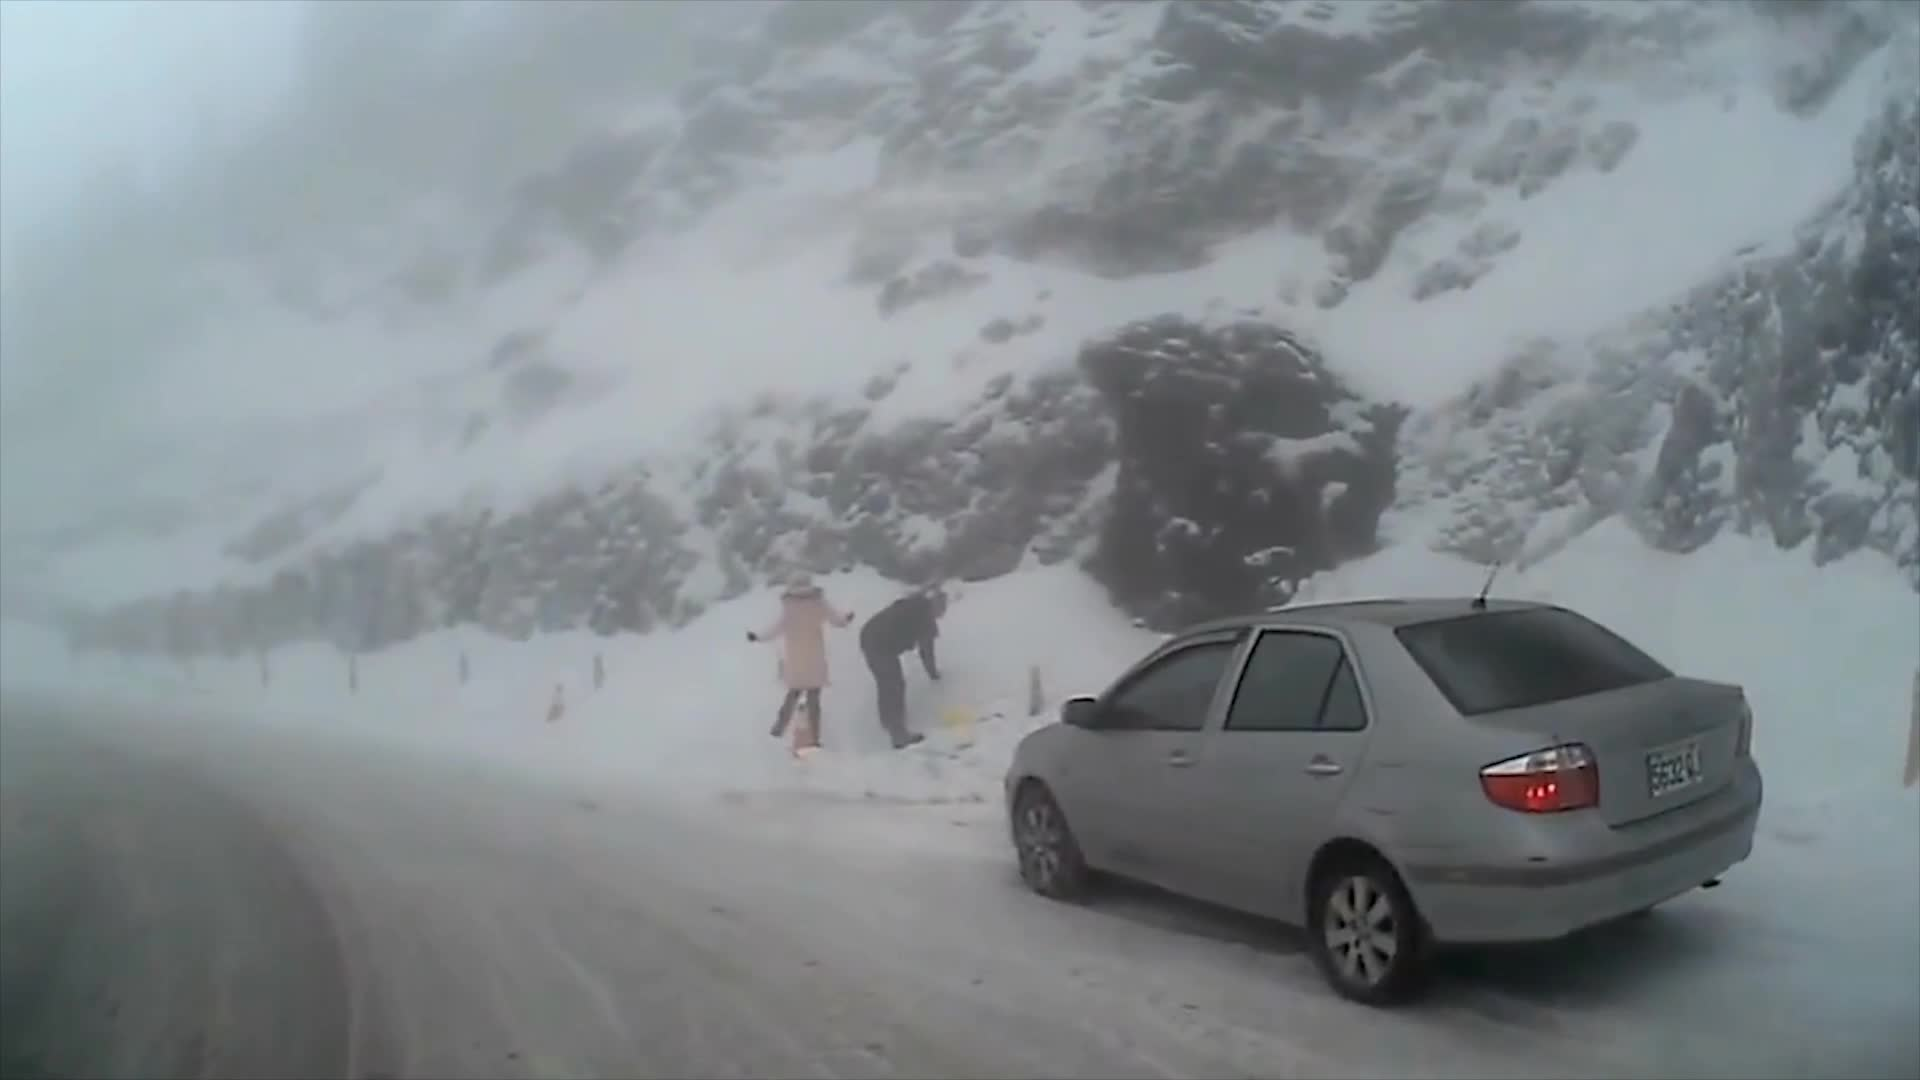pedestrian: (748, 569, 857, 750), (862, 587, 952, 745)
vehicle: (1004, 593, 1762, 1005)
